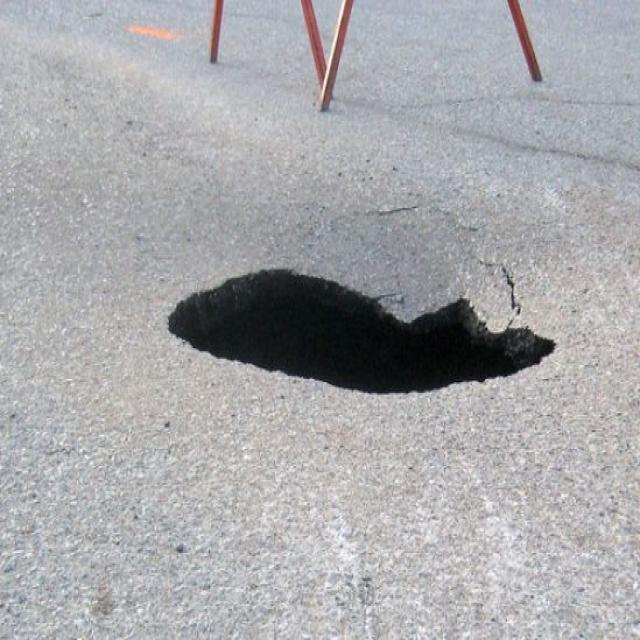Pothole: (162, 264, 562, 401)
